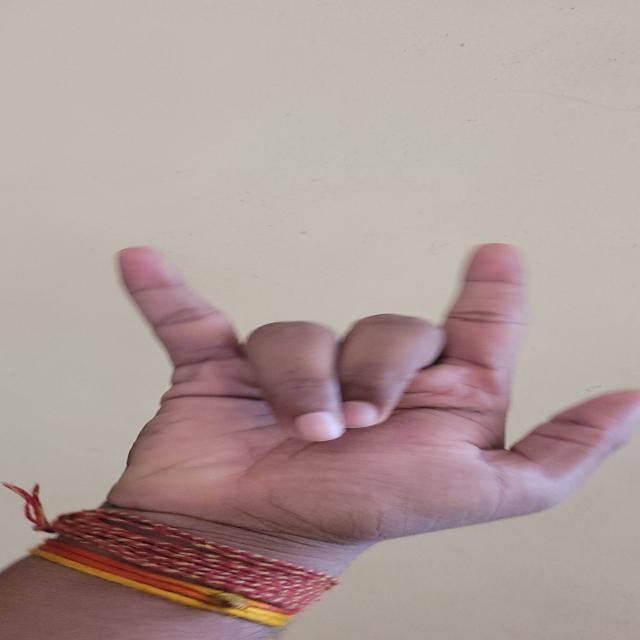i like you: (72, 216, 640, 591)
